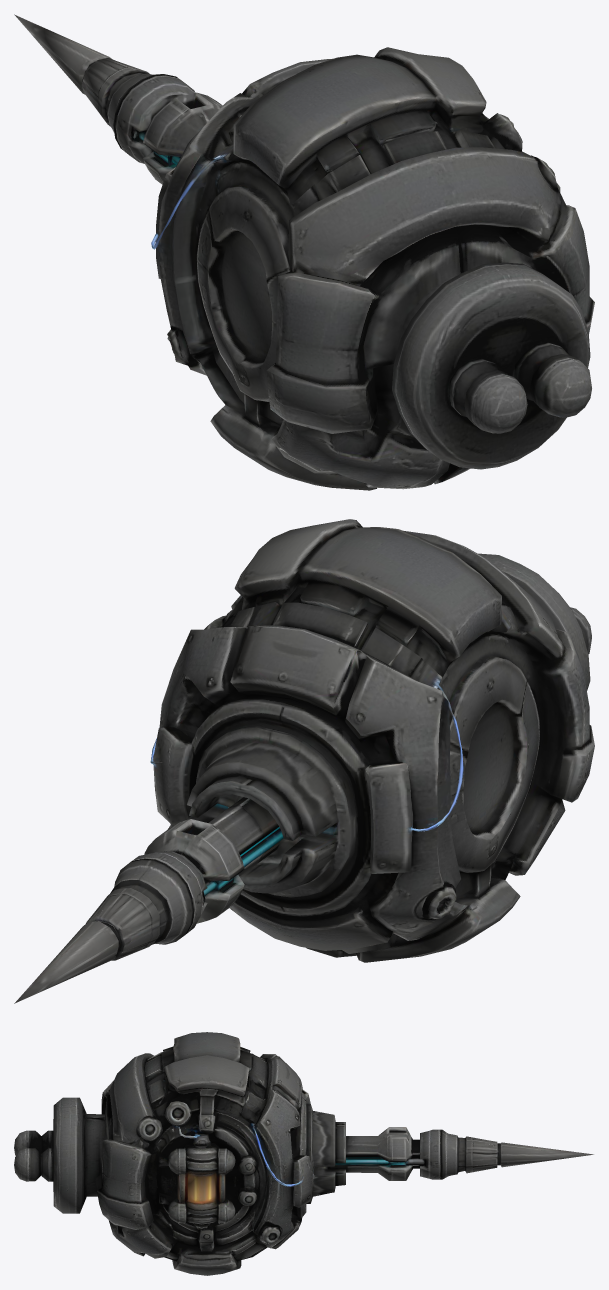
Rendered from needle-ballthorn.glb.
3 views of the same model, one above another, from view 1: azimuth 30°, elevation 25°; view 2: azimuth 150°, elevation 25°; view 3: azimuth 270°, elevation 25° (orthographic). The views are drawn at different scales.
Visible parts, largest first — view 1: tripo_node_dc39a5aa-b863-458d-abd5-5ec928238f5f; view 2: tripo_node_dc39a5aa-b863-458d-abd5-5ec928238f5f; view 3: tripo_node_dc39a5aa-b863-458d-abd5-5ec928238f5f.
Boxes of the visible parts, left/top/right/bottom form: tripo_node_dc39a5aa-b863-458d-abd5-5ec928238f5f: left=14, top=14, right=594, bottom=490; tripo_node_dc39a5aa-b863-458d-abd5-5ec928238f5f: left=14, top=519, right=594, bottom=1003; tripo_node_dc39a5aa-b863-458d-abd5-5ec928238f5f: left=14, top=1032, right=593, bottom=1275.
Bounding box in the file's own units: 0.3613 × 0.4238 × 0.998.
Materials: 1 (1 with a texture image).
